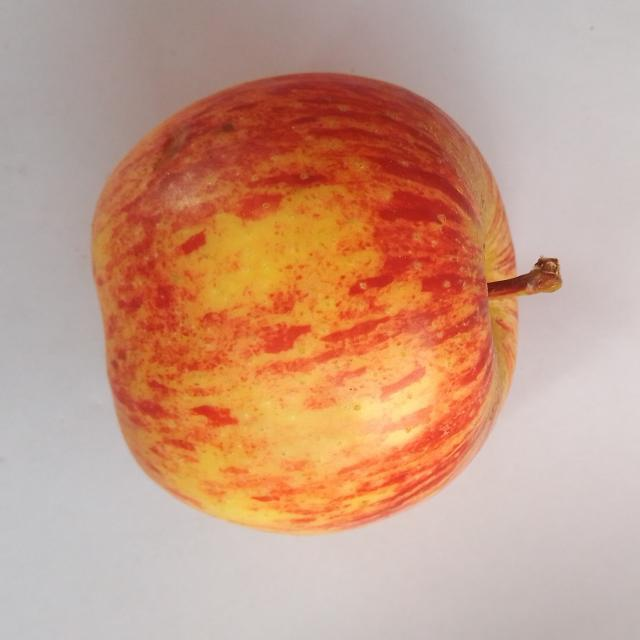Fresh Apple: (95, 81, 520, 522)
